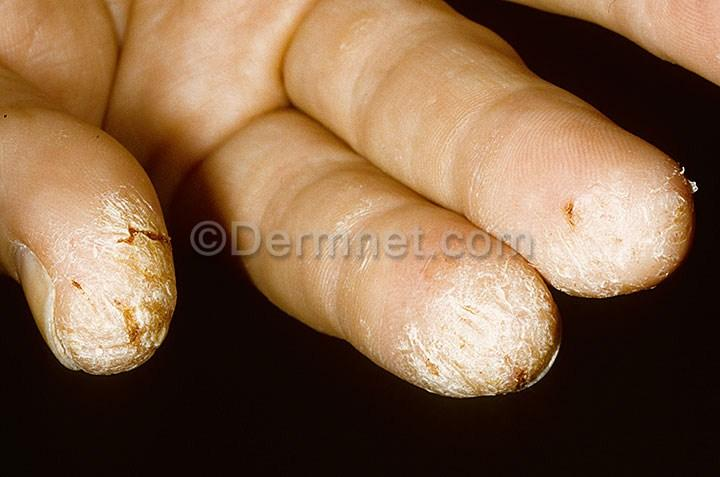Eczema: (102, 191, 165, 257), (430, 275, 502, 322), (603, 181, 658, 235), (499, 244, 554, 297), (458, 327, 514, 379), (511, 300, 563, 355), (119, 262, 174, 308), (43, 220, 94, 268), (556, 198, 602, 243), (409, 337, 460, 377), (561, 242, 600, 294), (62, 280, 109, 322), (64, 328, 114, 366), (608, 243, 654, 281), (389, 299, 436, 336), (368, 332, 414, 368), (664, 169, 687, 239), (123, 312, 158, 352), (654, 235, 683, 262), (427, 374, 465, 392)
